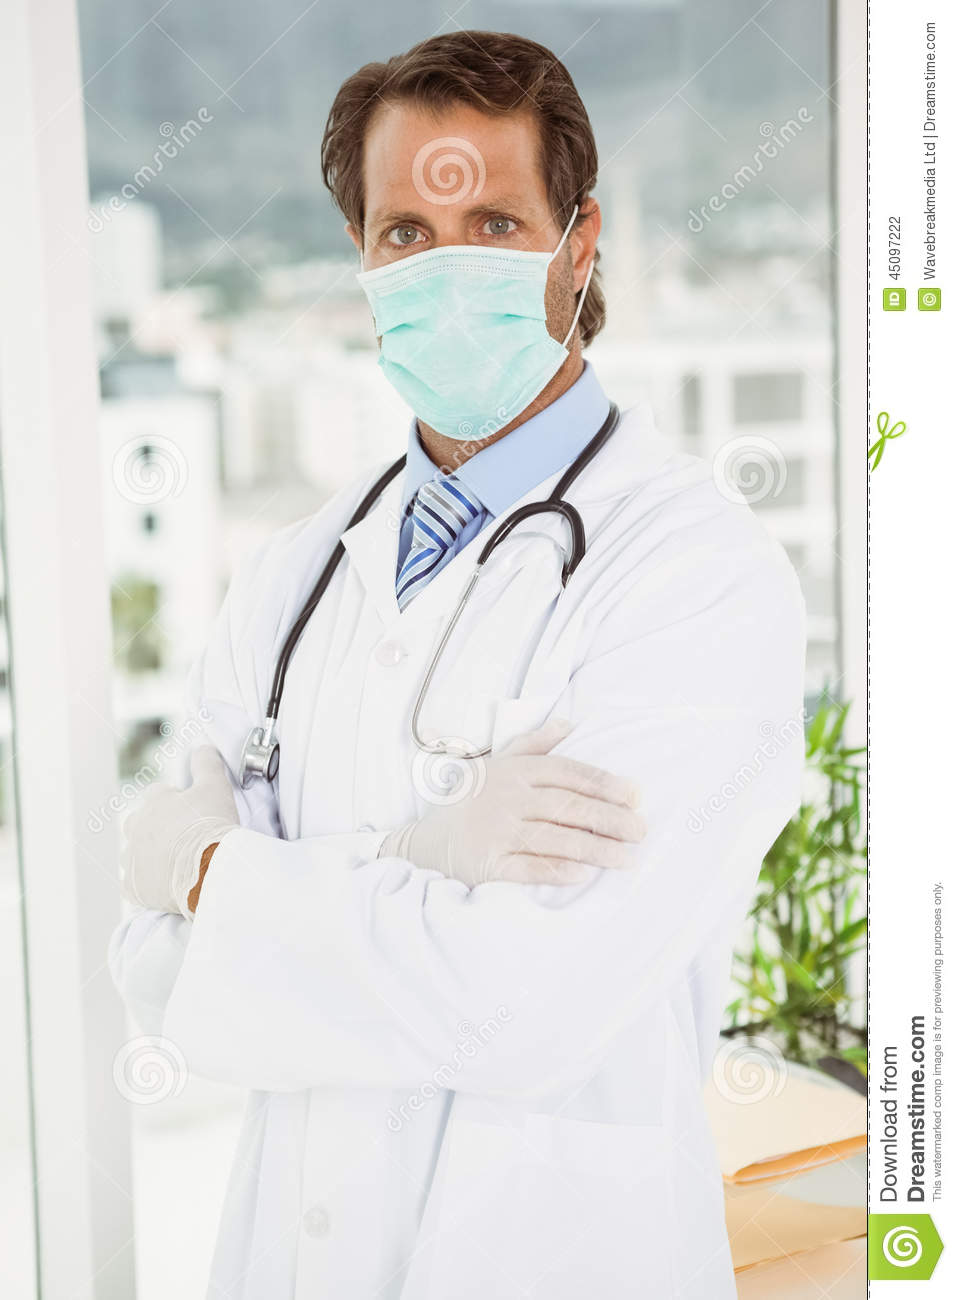mask: (340, 239, 584, 457)
